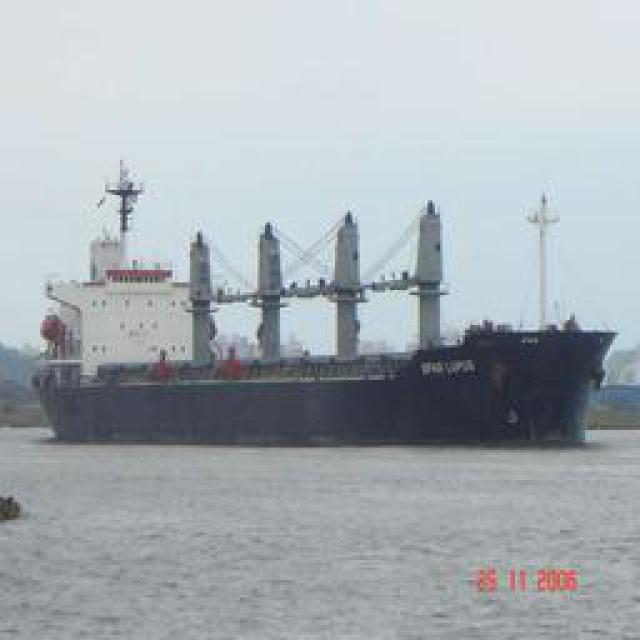Ship: (31, 179, 626, 444)
